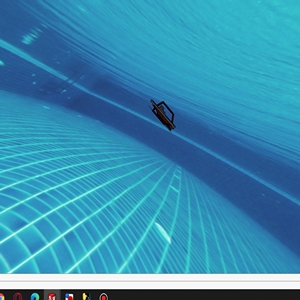submarine: (150, 97, 181, 134)
